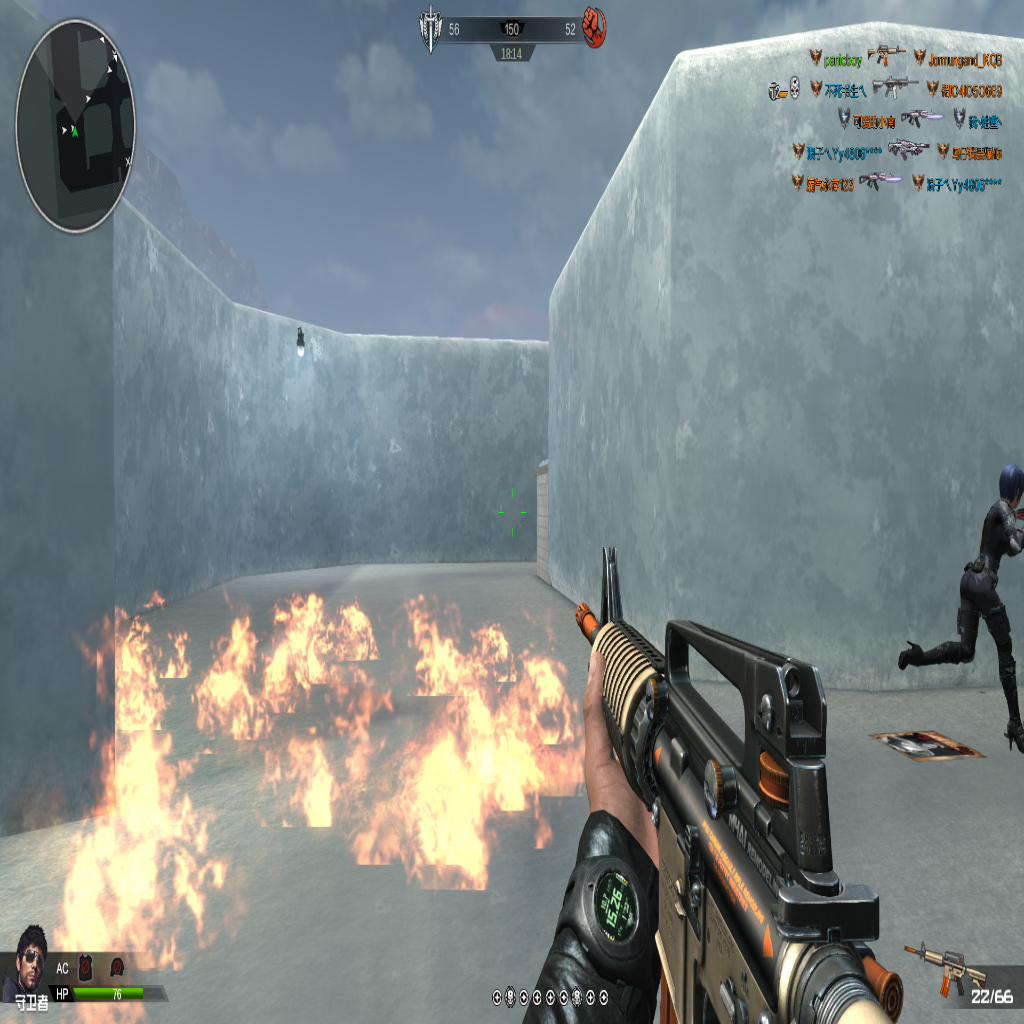ct: (899, 457, 1024, 759)
